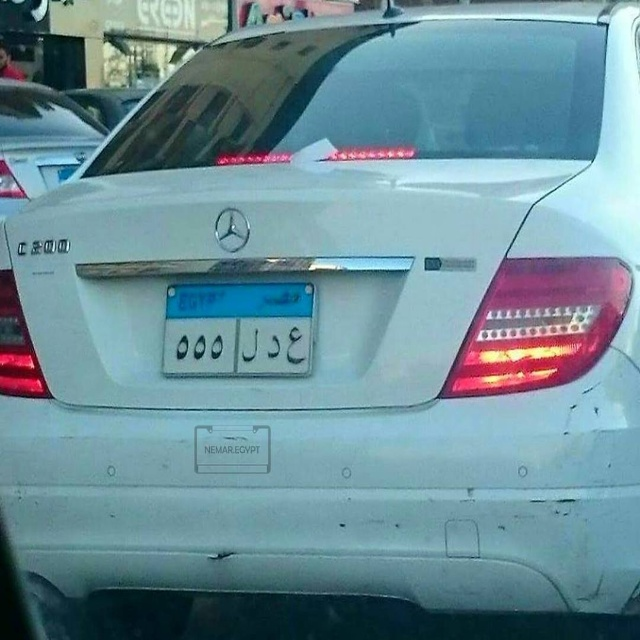License Plate: (159, 279, 317, 382)
